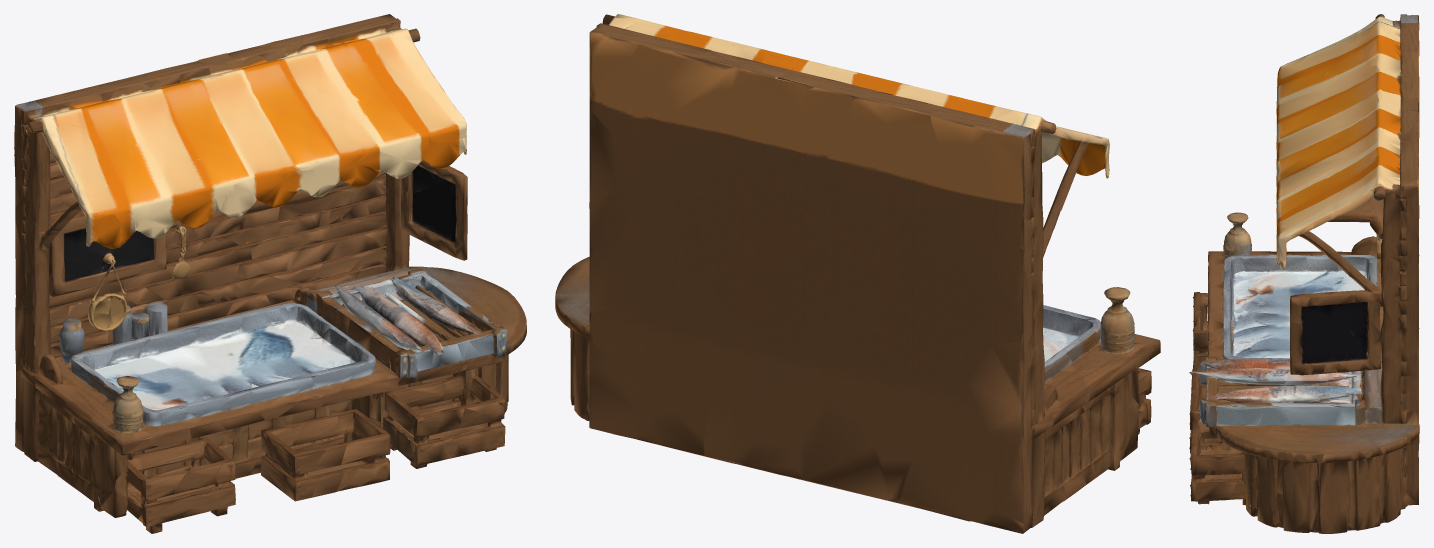
File: banco_pesce_lod0.glb
3 renders of one model, left to right at view 1: azimuth 30°, elevation 25°; view 2: azimuth 150°, elevation 25°; view 3: azimuth 270°, elevation 25°, orthographic. The views are drawn at different scales.
Parts seen in each view (by area): view 1: Mesh_0; view 2: Mesh_0; view 3: Mesh_0.
Part boxes in pixels (x1,y1,x2,y2): Mesh_0: (14,14,526,533); Mesh_0: (555,14,1160,533); Mesh_0: (1189,14,1419,533).
Size of the model in its own units: 3.35 by 2.5 by 1.6.
1 material, 1 textured.
